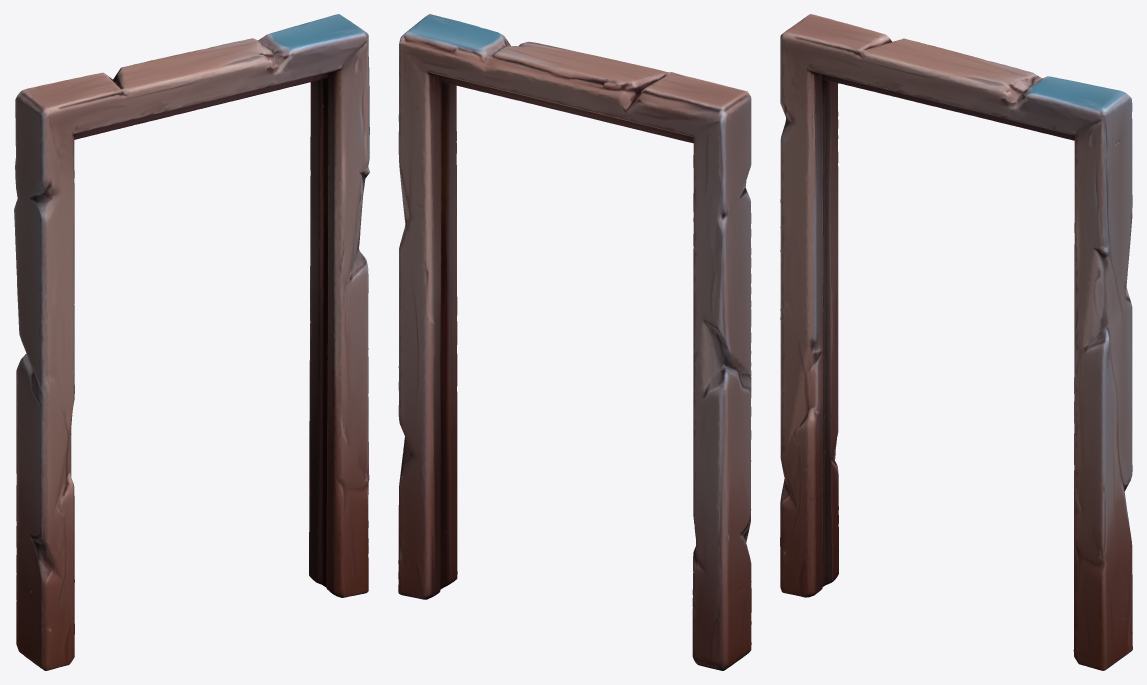
File: extra_DoorFrame.glb
3 renders of one model, left to right at view 1: azimuth 30°, elevation 25°; view 2: azimuth 150°, elevation 25°; view 3: azimuth 330°, elevation 25°, orthographic.
Visible parts, largest first — view 1: world; view 2: world; view 3: world.
Boxes of the visible parts, x1,y1,x2,y2 form: world: (14, 14, 369, 670); world: (398, 14, 751, 670); world: (780, 14, 1132, 670).
Bounding box in the file's own units: 0.6113 × 1 × 0.0985.
1 material, 1 textured.
